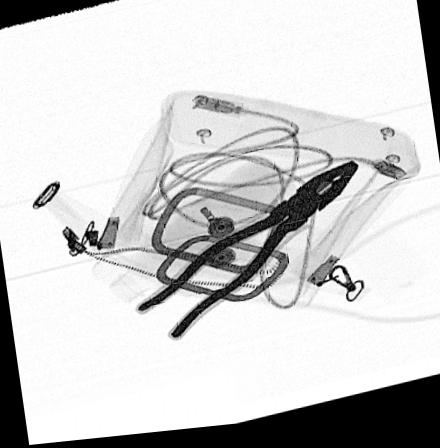Pliers: (133, 166, 363, 344)
